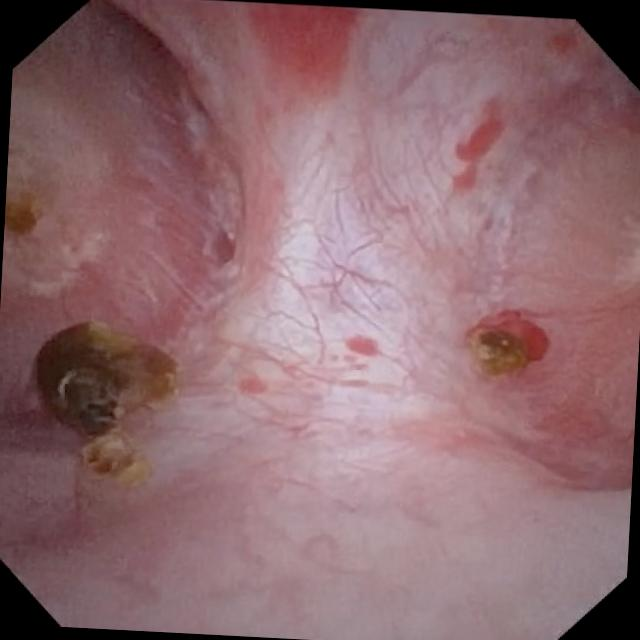stone-new: (35, 321, 177, 480), (471, 328, 531, 374), (6, 200, 42, 235)
